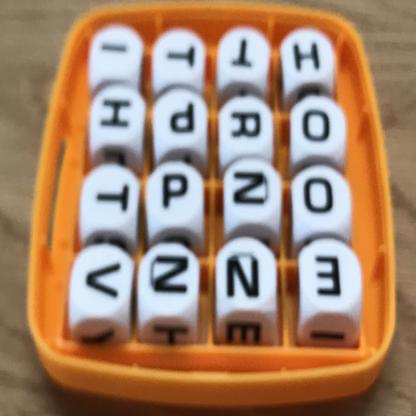e: (303, 243, 348, 311)
h: (288, 31, 333, 86), (95, 86, 138, 143)
i: (92, 22, 138, 69)
n: (216, 246, 272, 312), (145, 242, 196, 313), (228, 162, 276, 219)
o: (298, 169, 341, 225), (299, 100, 337, 153)
p: (162, 88, 204, 148), (157, 166, 196, 219)
r: (227, 98, 268, 150)
t: (88, 170, 133, 222), (162, 29, 204, 79), (223, 29, 261, 82)
v: (76, 243, 131, 312)
